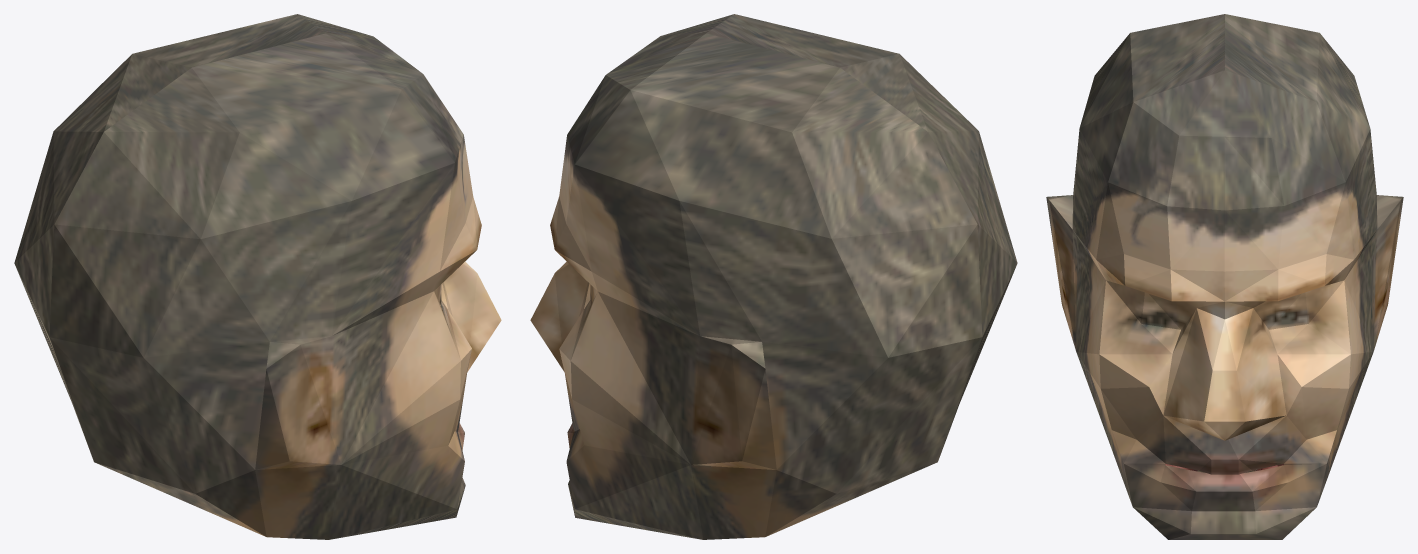
The model's file is FAT_BALD-BtEoUG0H.glb.
The picture shows the model from 3 angles, left to right: view 1: azimuth 30°, elevation 25°; view 2: azimuth 150°, elevation 25°; view 3: azimuth 270°, elevation 25°; orthographic projection. The views are drawn at different scales.
Parts seen in each view (by area): view 1: zm_Morph; view 2: zm_Morph; view 3: zm_Morph.
Part boxes in pixels (box(x1,y1,x2,y2)): zm_Morph: box(14, 14, 501, 539); zm_Morph: box(530, 14, 1017, 539); zm_Morph: box(1046, 14, 1403, 539).
Size of the model in its own units: 0.2246 by 0.2362 by 0.179.
Materials: 3 (3 with a texture image).
